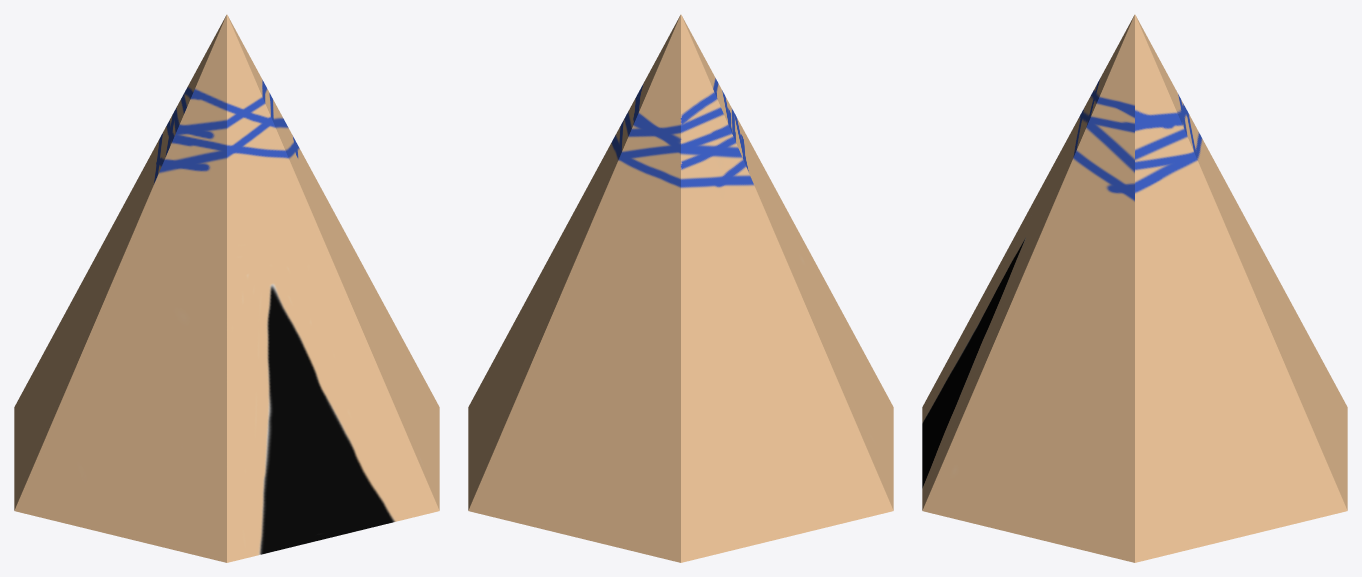
Rendered from tent.glb.
3 renders of one model, left to right at view 1: azimuth 30°, elevation 25°; view 2: azimuth 150°, elevation 25°; view 3: azimuth 270°, elevation 25°, orthographic.
Visible parts, largest first — view 1: Cone; view 2: Cone; view 3: Cone.
Part boxes in pixels (<box>): Cone: <box>14,14,439,562</box>; Cone: <box>468,14,893,562</box>; Cone: <box>922,14,1347,562</box>.
Size of the model in its own units: 2 by 2 by 1.73.
1 material, 1 textured.
